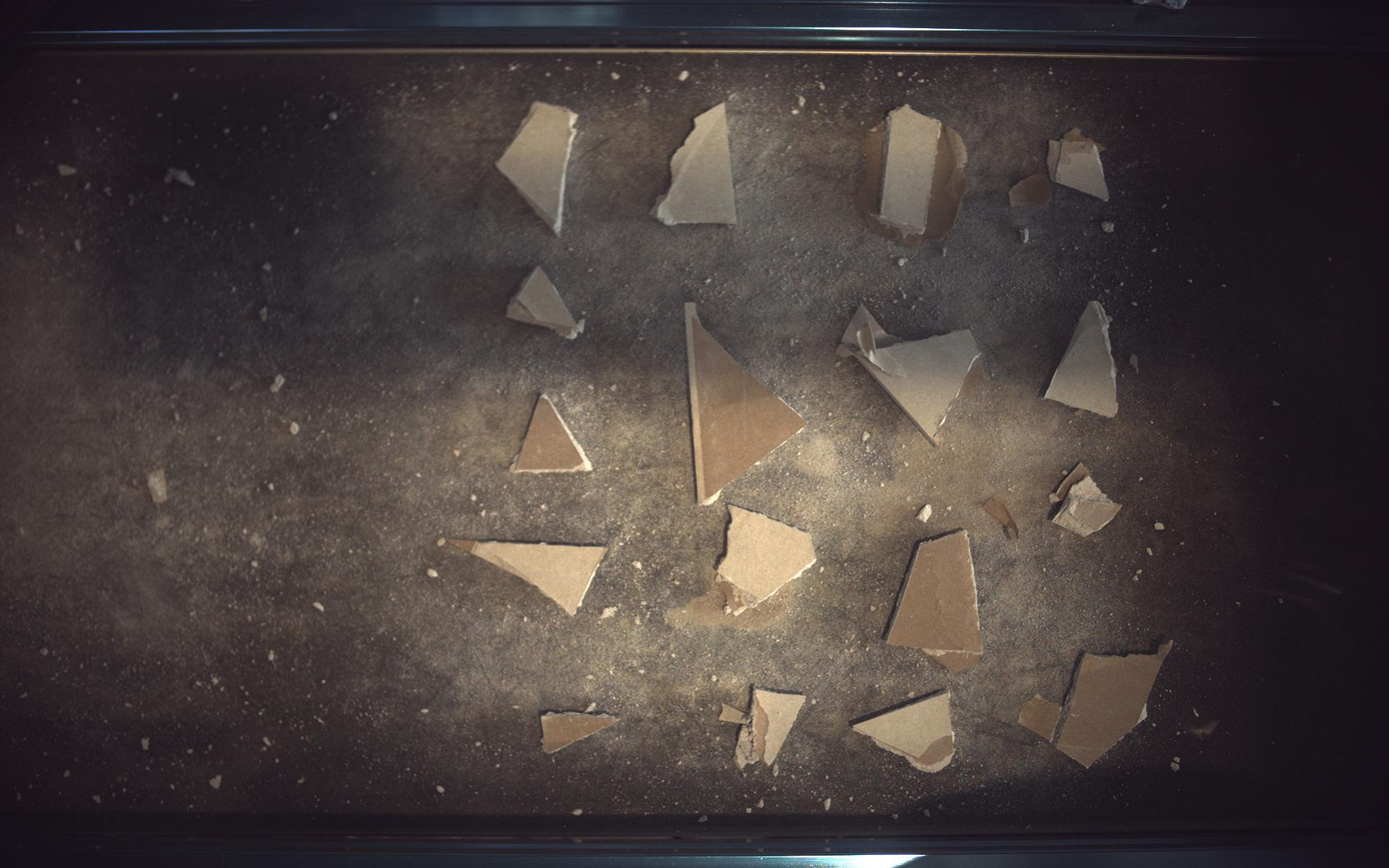gypsum_board: (686, 302, 806, 505), (838, 305, 987, 446), (1021, 642, 1175, 769), (856, 103, 969, 244), (887, 530, 985, 672), (451, 541, 607, 617), (496, 101, 579, 234), (719, 506, 817, 618), (653, 101, 738, 224), (1048, 300, 1121, 417), (855, 692, 956, 773), (1011, 127, 1111, 206), (720, 689, 807, 771), (510, 393, 593, 474), (506, 265, 585, 339), (1052, 462, 1124, 537), (541, 713, 621, 754)
